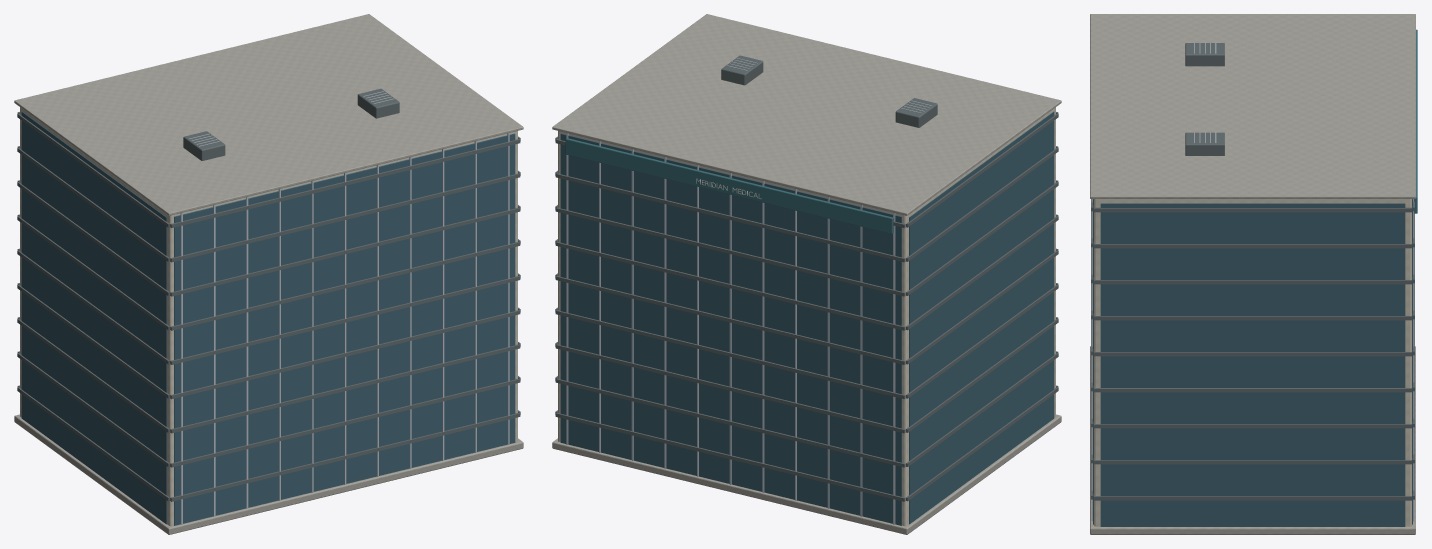
Rendered from mc_hospital.glb.
The picture shows the model from 3 angles, left to right: view 1: azimuth 30°, elevation 25°; view 2: azimuth 150°, elevation 25°; view 3: azimuth 270°, elevation 25°; orthographic projection. The views are drawn at different scales.
Visible parts, largest first — view 1: mc_hospital__Geometry; view 2: mc_hospital__Geometry; view 3: mc_hospital__Geometry.
Boxes of the visible parts, x1,y1,x2,y2 form: mc_hospital__Geometry: (14,14,523,534); mc_hospital__Geometry: (552,14,1061,534); mc_hospital__Geometry: (1090,14,1417,534).
Bounding box in the file's own units: 32.6 × 29.24 × 24.75.
7 materials, 2 textured.
